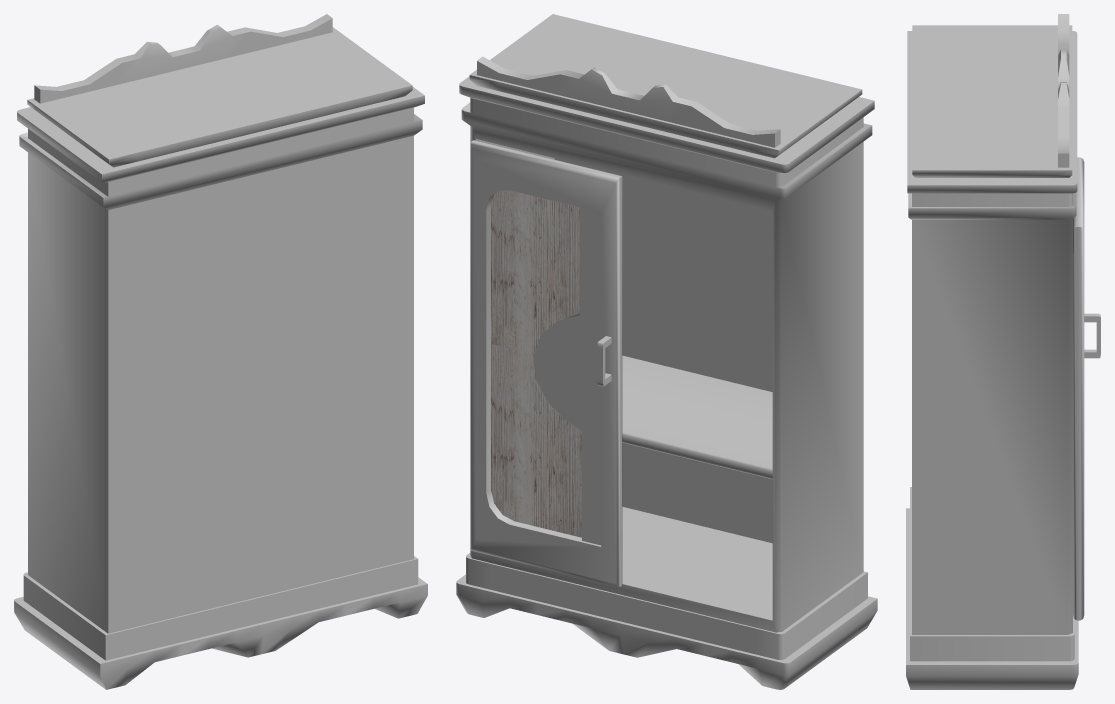
The model's file is cupboard.fbx.
The picture shows the model from 3 angles, left to right: view 1: azimuth 30°, elevation 25°; view 2: azimuth 150°, elevation 25°; view 3: azimuth 270°, elevation 25°; orthographic projection. The views are drawn at different scales.
Parts seen in each view (by area): view 1: Cube.046; view 2: Cube.046, Cube.047, Cube.048; view 3: Cube.046, Cube.047.
Part boxes in pixels (box(x1,y1,x2,y2)): Cube.046: box(14, 14, 427, 689); Cube.046: box(456, 14, 877, 689); Cube.047: box(470, 140, 622, 586); Cube.048: box(622, 355, 772, 479); Cube.046: box(906, 14, 1078, 689); Cube.047: box(1073, 157, 1100, 620).
Bounding box in the file's own units: 329 × 540 × 173.
